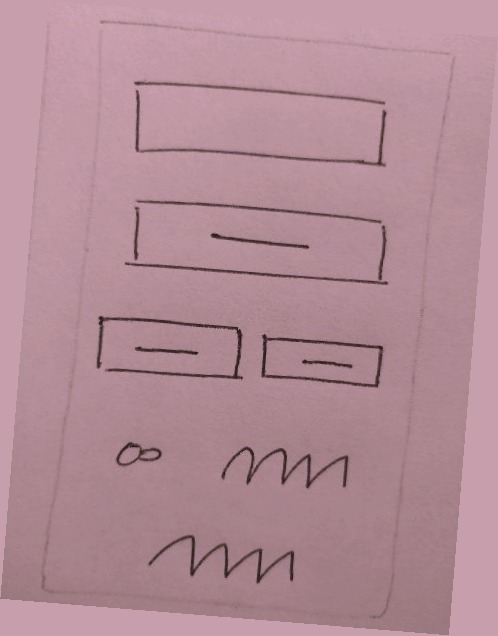button: (113, 189, 399, 296), (84, 302, 251, 391), (250, 321, 395, 398)
switch: (103, 425, 177, 478)
text: (136, 519, 308, 598), (206, 434, 360, 504)
text_input: (121, 69, 400, 184)
